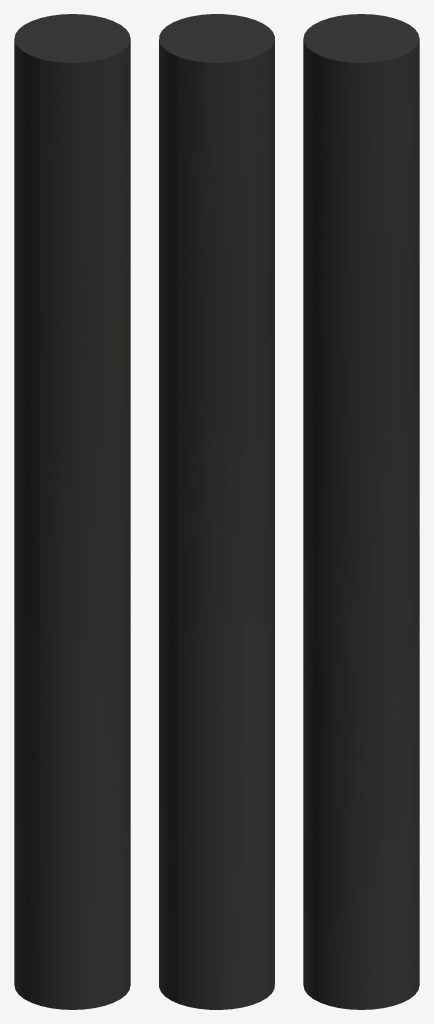
The model's file is backrest__pivot_sleeve.glb.
The picture shows the model from 3 angles, left to right: view 1: azimuth 90°, elevation 25°; view 2: azimuth 150°, elevation 25°; view 3: azimuth 270°, elevation 25°; orthographic projection.
Visible parts, largest first — view 1: world; view 2: world; view 3: world.
Boxes of the visible parts, bbox=[...] form: world: bbox=[14, 14, 130, 1009]; world: bbox=[159, 14, 274, 1009]; world: bbox=[303, 14, 419, 1009].
Size of the model in its own units: 0.04 by 0.36 by 0.04.
Materials: 1 (1 with a texture image).
